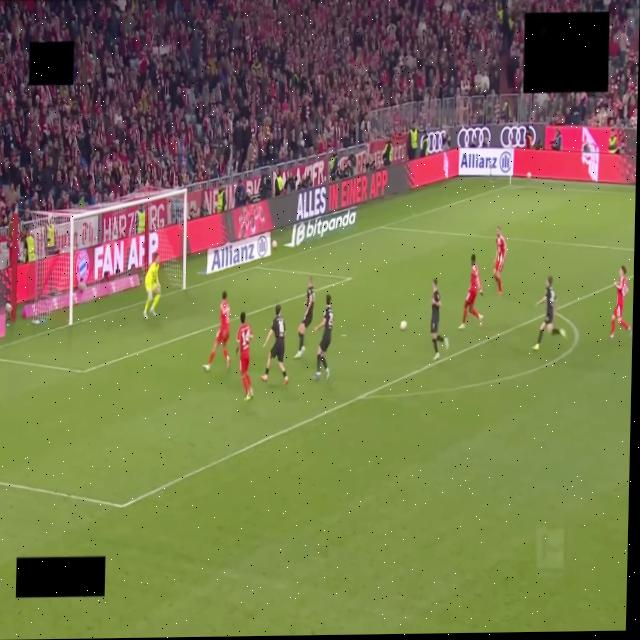ball: (401, 321, 407, 330)
player: (533, 277, 565, 350), (261, 305, 288, 385), (204, 292, 230, 372), (459, 254, 483, 329), (314, 294, 333, 379), (295, 276, 314, 359), (610, 266, 631, 339), (236, 312, 253, 400), (430, 279, 448, 360), (144, 254, 160, 319), (494, 227, 506, 295)
